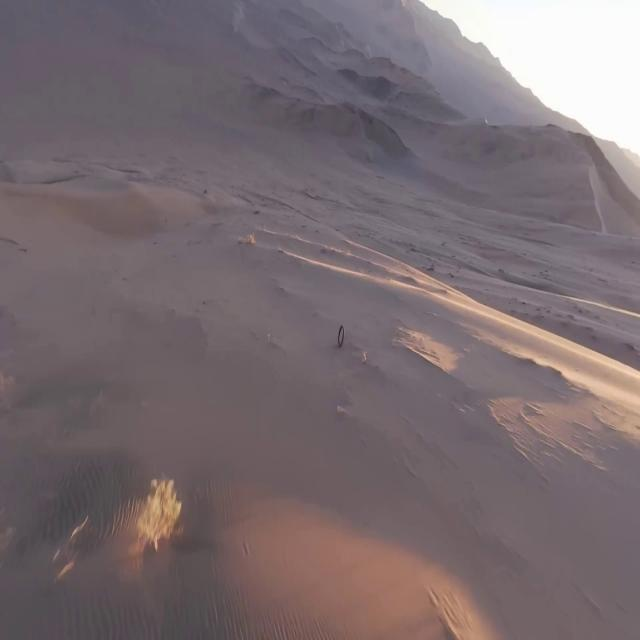Tire: (338, 325, 344, 347)
